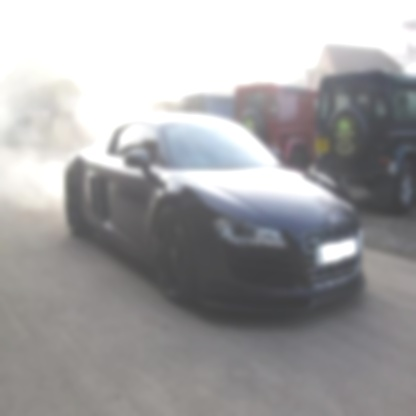Vehicle: (63, 107, 372, 326)
